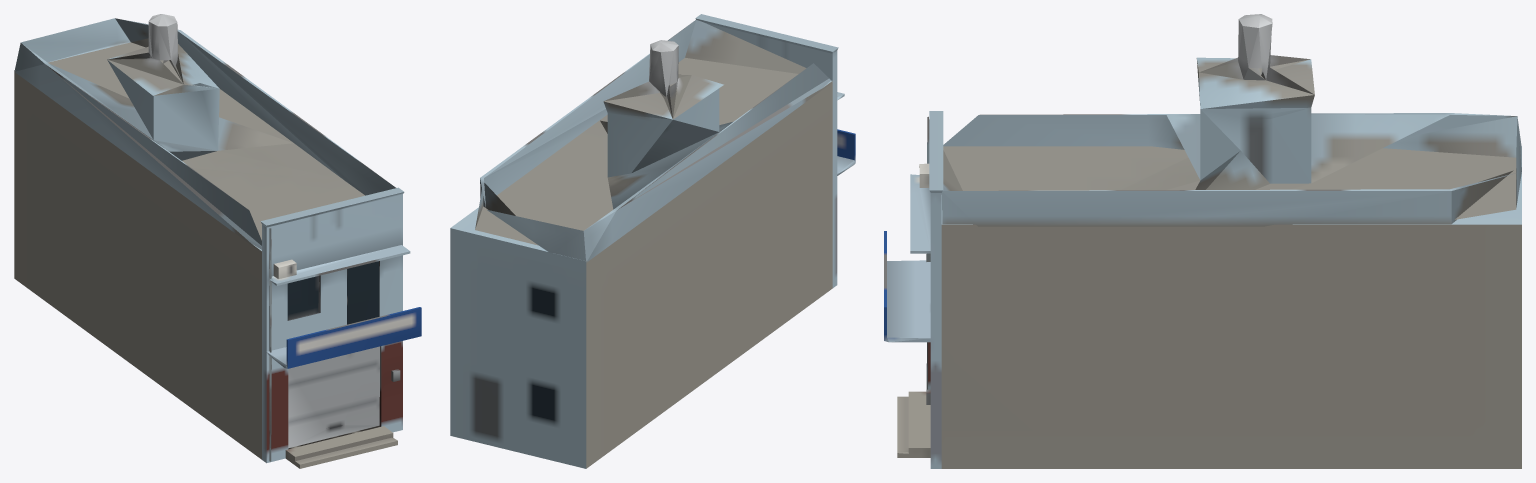
File: nha_pho_2_tang_vung_tau.far.glb
3 renders of one model, left to right at view 1: azimuth 30°, elevation 25°; view 2: azimuth 150°, elevation 25°; view 3: azimuth 270°, elevation 25°, orthographic. The views are drawn at different scales.
Visible parts, largest first — view 1: nha_pho_2_tang_vung_tau; view 2: nha_pho_2_tang_vung_tau; view 3: nha_pho_2_tang_vung_tau.
Boxes of the visible parts, x1,y1,x2,y2 form: nha_pho_2_tang_vung_tau: (14, 14, 421, 468); nha_pho_2_tang_vung_tau: (450, 14, 855, 468); nha_pho_2_tang_vung_tau: (884, 14, 1521, 468).
Bounding box in the file's own units: 5.06 × 11.81 × 17.26.
Materials: 3 (3 with a texture image).
